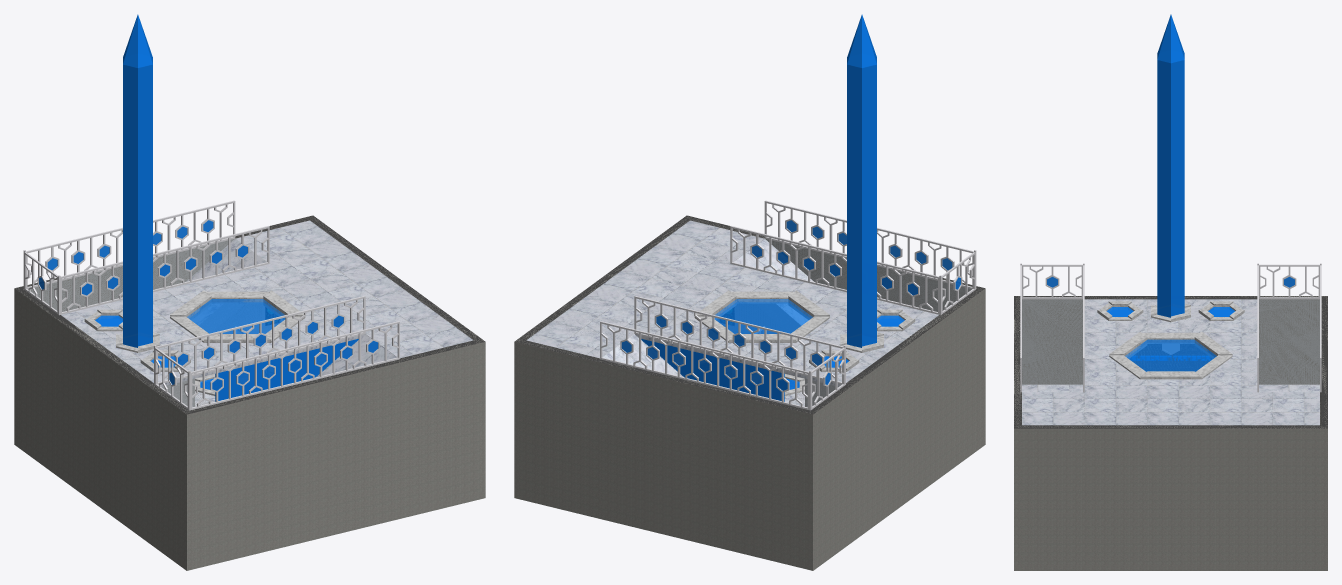
File: station.dae
3 renders of one model, left to right at view 1: azimuth 30°, elevation 25°; view 2: azimuth 150°, elevation 25°; view 3: azimuth 270°, elevation 25°, orthographic. The views are drawn at different scales.
Parts seen in each view (by area): view 1: group_0 (×3), group_58 (×2), group_11 (×4), group_36, group_28, group_27, group_3; view 2: group_0 (×3), group_58 (×2), group_11 (×4), group_36, group_28, group_27, group_8; view 3: group_0 (×4), group_58, group_36, group_27, group_28, group_5 (×2), group_35, group_38.
Boxes of the visible parts, x1,y1,x2,y2 form: group_0 (×3): (14,215,485,570); group_58 (×2): (61,220,473,407); group_11 (×4): (26,200,399,409); group_36: (123,14,152,347); group_28: (187,299,285,333); group_27: (170,290,305,342); group_3: (215,339,358,401); group_0 (×3): (514,215,985,570); group_58 (×2): (526,220,938,407); group_11 (×4): (600,200,973,409); group_36: (847,14,876,347); group_28: (714,299,812,333); group_27: (694,290,829,342); group_8: (641,339,784,401); group_0 (×4): (1014,296,1327,570); group_58: (1022,299,1319,425); group_36: (1157,14,1184,317); group_27: (1109,331,1232,379); group_28: (1125,339,1216,371); group_5 (×2): (1022,264,1319,299); group_35: (1198,301,1244,320); group_38: (1097,301,1143,320).
Size of the model in its own units: 394 by 394 by 610.
